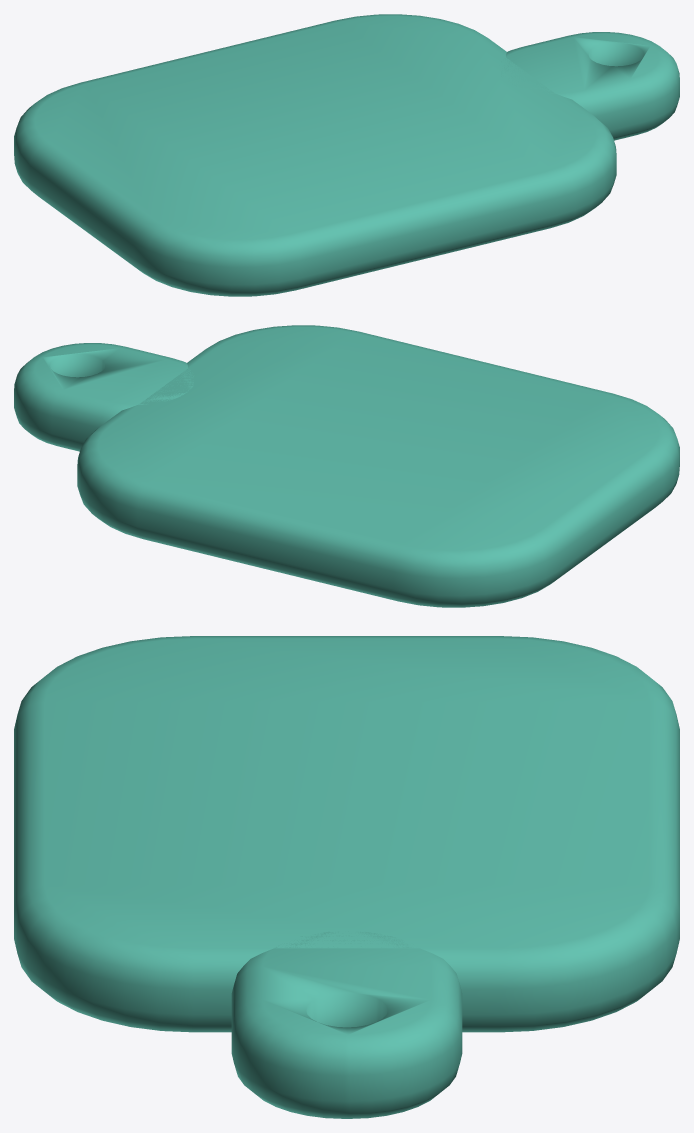
The model's file is board_b.glb.
3 views of the same model, one above another, from view 1: azimuth 30°, elevation 25°; view 2: azimuth 150°, elevation 25°; view 3: azimuth 270°, elevation 25° (orthographic). The views are drawn at different scales.
Parts seen in each view (by area): view 1: body; view 2: body; view 3: body.
Part boxes in pixels (x1,y1,x2,y2): body: (14, 14, 679, 296); body: (14, 325, 679, 607); body: (14, 636, 679, 1118).
Size of the model in its own units: 0.39 by 0.035 by 0.26.
